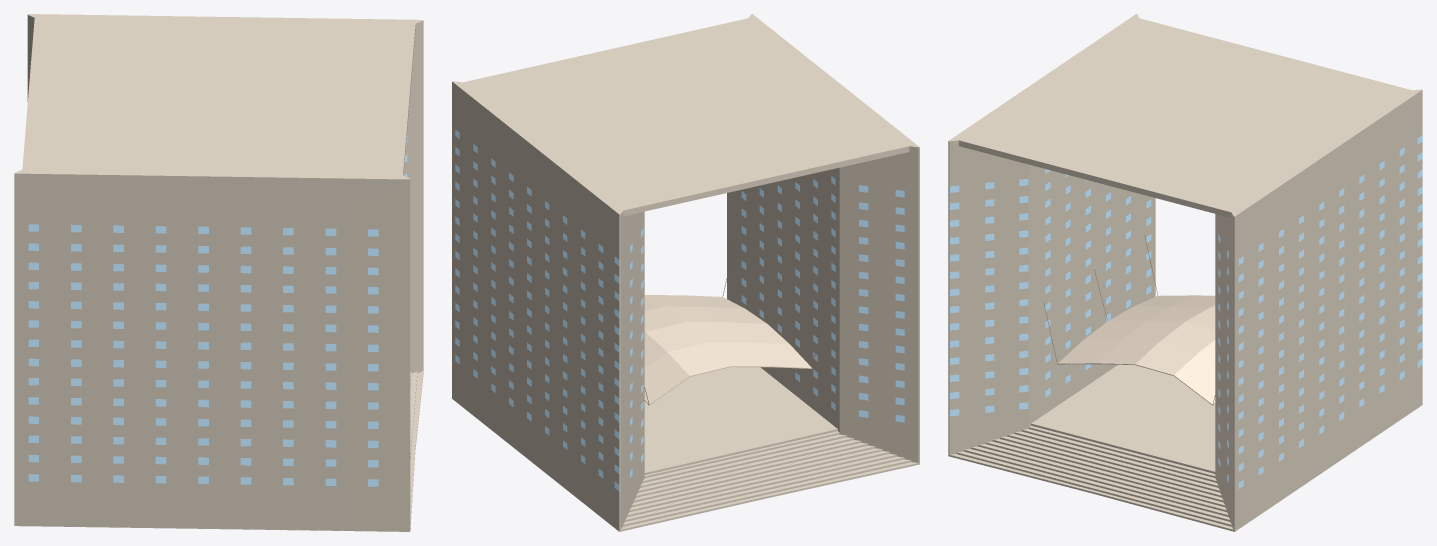
Rendered from detail.glb.
3 renders of one model, left to right at view 1: azimuth 30°, elevation 25°; view 2: azimuth 150°, elevation 25°; view 3: azimuth 270°, elevation 25°, orthographic. The views are drawn at different scales.
Parts seen in each view (by area): view 1: stone, window; view 2: stone, trim, window; view 3: stone, window, trim.
Boxes of the visible parts, left/top/right/bottom form: stone: left=14, top=14, right=423, bottom=531; window: left=28, top=135, right=407, bottom=486; stone: left=452, top=14, right=919, bottom=531; trim: left=644, top=295, right=812, bottom=405; window: left=455, top=129, right=904, bottom=490; stone: left=948, top=14, right=1422, bottom=531; window: left=950, top=135, right=1422, bottom=488; trim: left=1057, top=295, right=1215, bottom=405.
Bounding box in the file's own units: 152 × 110 × 150.
